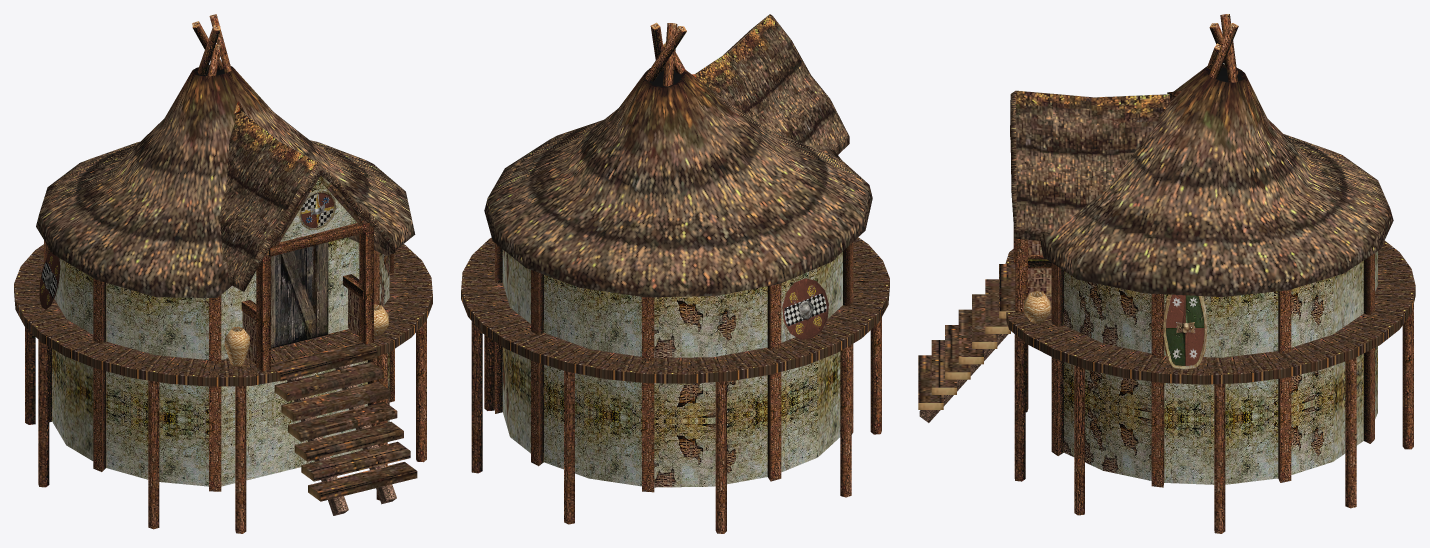
The model's file is casa_d.glb.
3 views of the same model, side by side, from view 1: azimuth 30°, elevation 25°; view 2: azimuth 150°, elevation 25°; view 3: azimuth 270°, elevation 25° (orthographic). The views are drawn at different scales.
Parts seen in each view (by area): view 1: Casa, Puerta, Detalles; view 2: Casa, Detalles; view 3: Casa, Detalles, Puerta.
Boxes of the visible parts, x1,y1,x2,y2 form: Casa: (14,14,432,533); Puerta: (224,242,396,515); Detalles: (39,190,335,309); Casa: (461,14,889,533); Detalles: (782,278,828,339); Casa: (918,14,1415,533); Detalles: (1163,294,1207,369); Puerta: (919,291,1050,422).
Size of the model in its own units: 4.95 by 5.5 by 5.83.
Materials: 3 (3 with a texture image).
